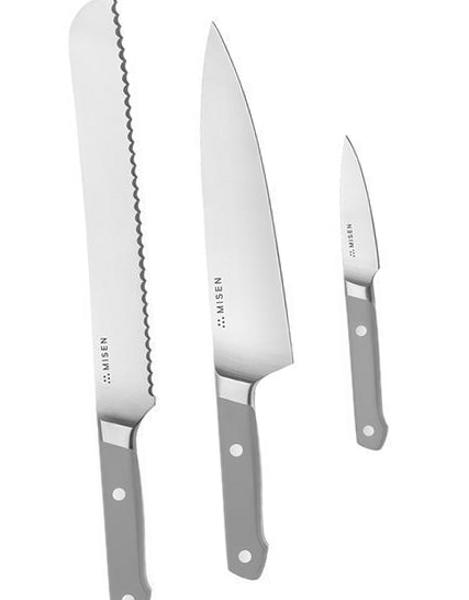knife: (200, 21, 295, 584), (338, 135, 390, 450)
